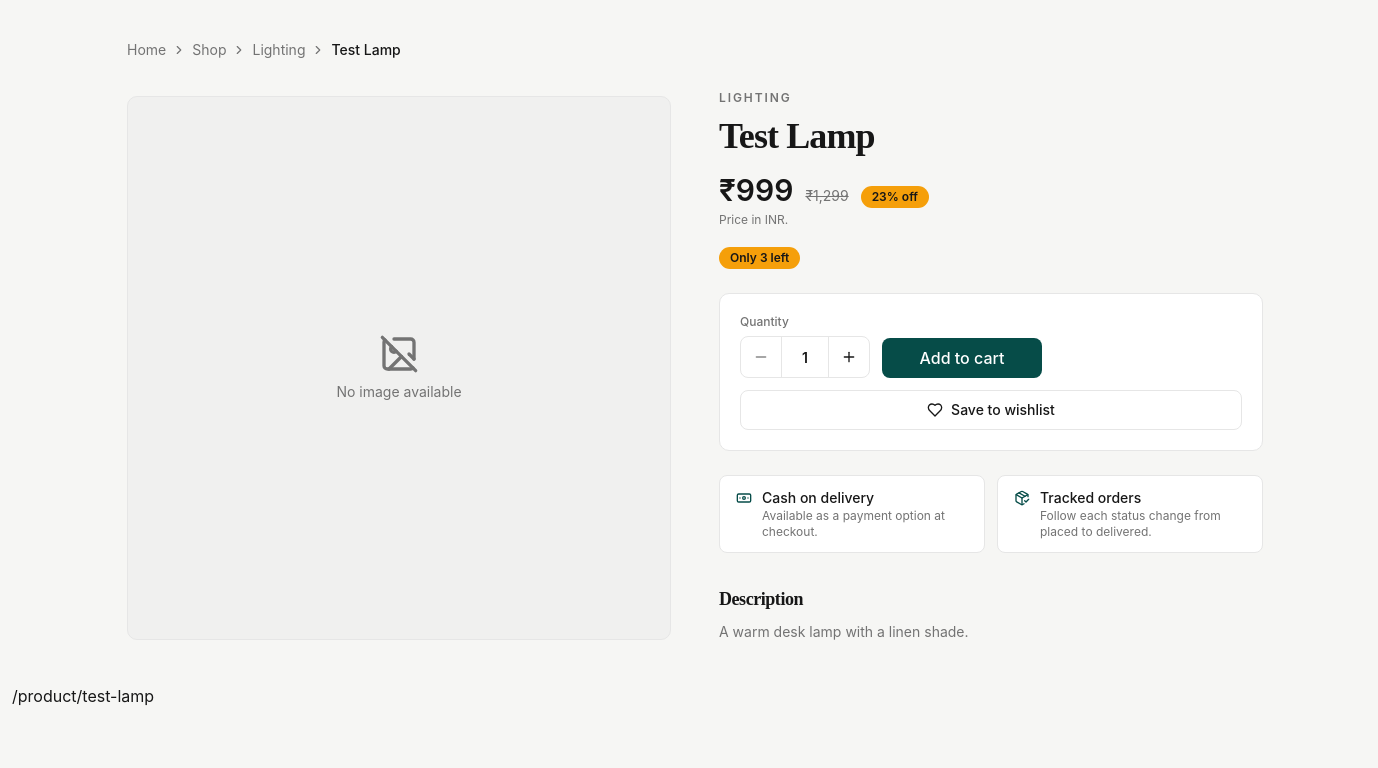
Test: ProductPage › adds the chosen quantity to the cart and toggles the wishlist when signed in
expect the heading "Test Lamp" is shown: met, box top-left (719, 116), bottom-right (875, 156)
expect the field labelled "Quantity" holds "1": met, box top-left (781, 337), bottom-right (829, 377)
Click the button named "Increase quantity".
click(849, 357)  # box top-left (829, 337), bottom-right (869, 377)
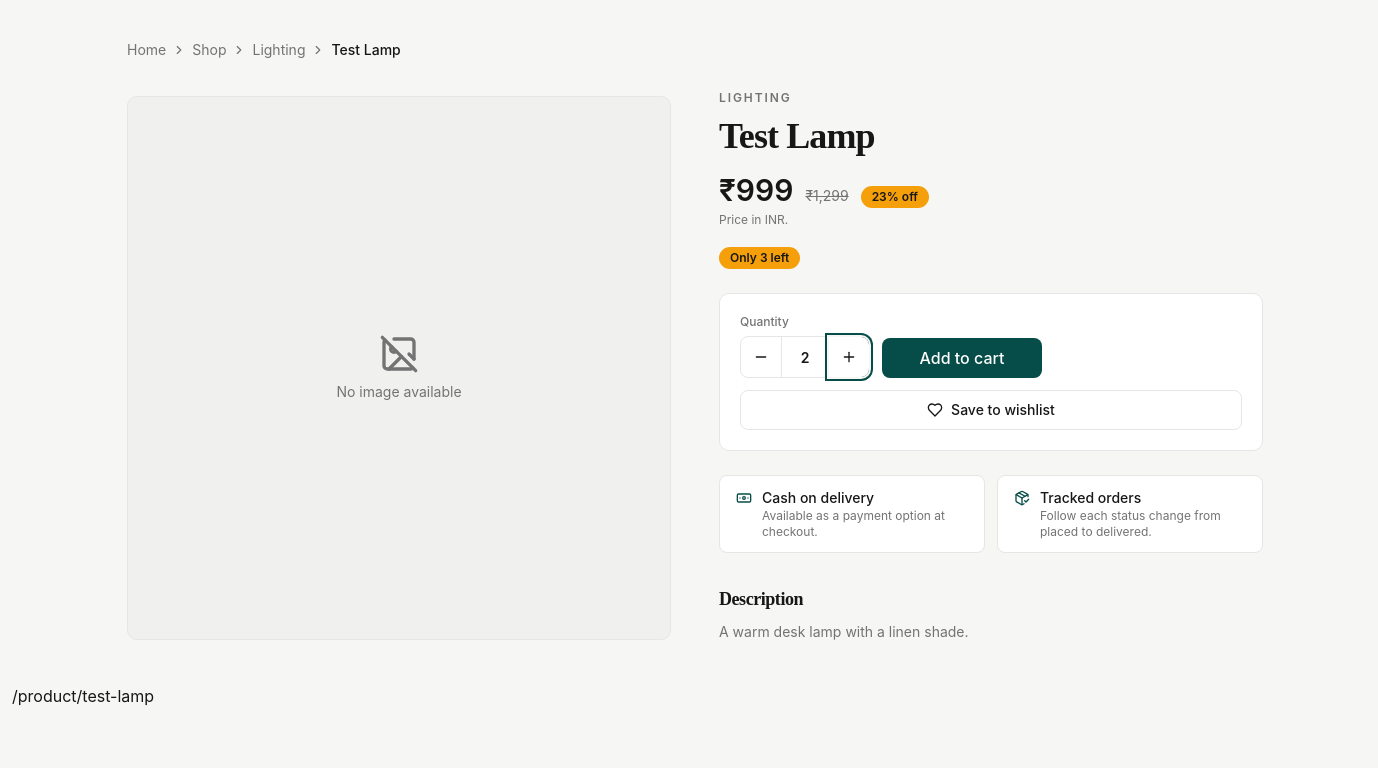
expect the field labelled "Quantity" holds "2": met, box top-left (781, 337), bottom-right (829, 377)
Click the button "Add to cart".
click(962, 358)  # box top-left (882, 338), bottom-right (1042, 378)
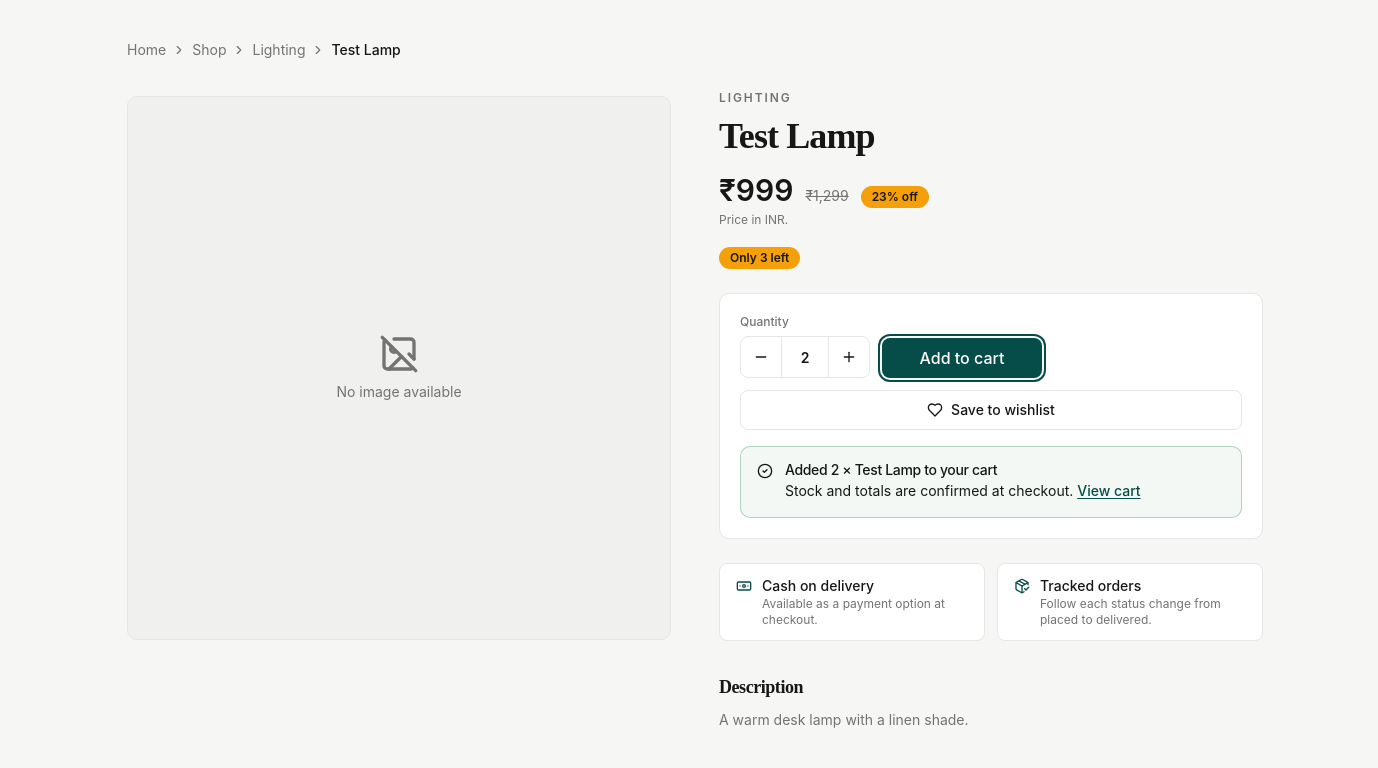
expect the heading "Added 2 × Test Lamp to your cart" is shown: met, box top-left (785, 461), bottom-right (997, 478)
Click the button "Save to wishlist".
click(991, 410)  # box top-left (740, 390), bottom-right (1242, 430)
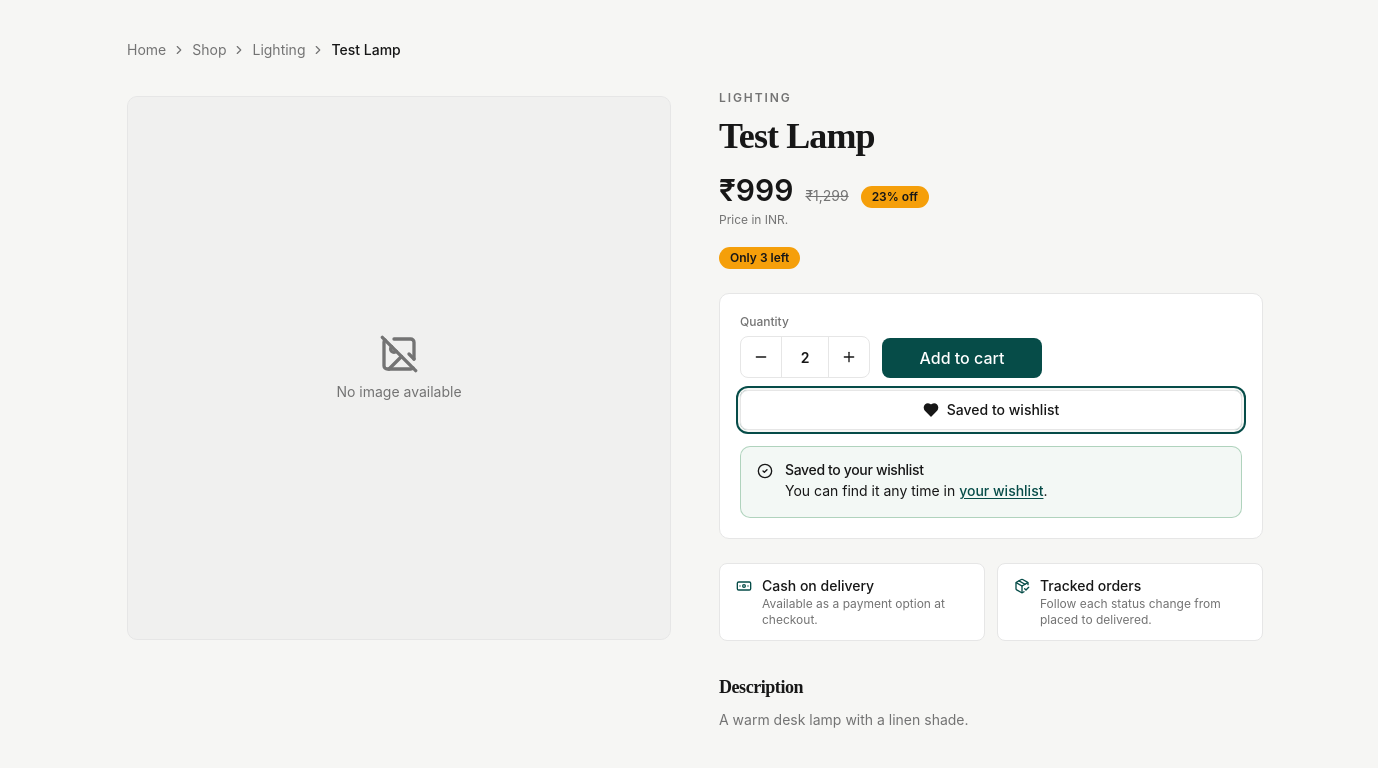
expect the heading "Saved to your wishlist" is shown: met, box top-left (785, 461), bottom-right (924, 478)
